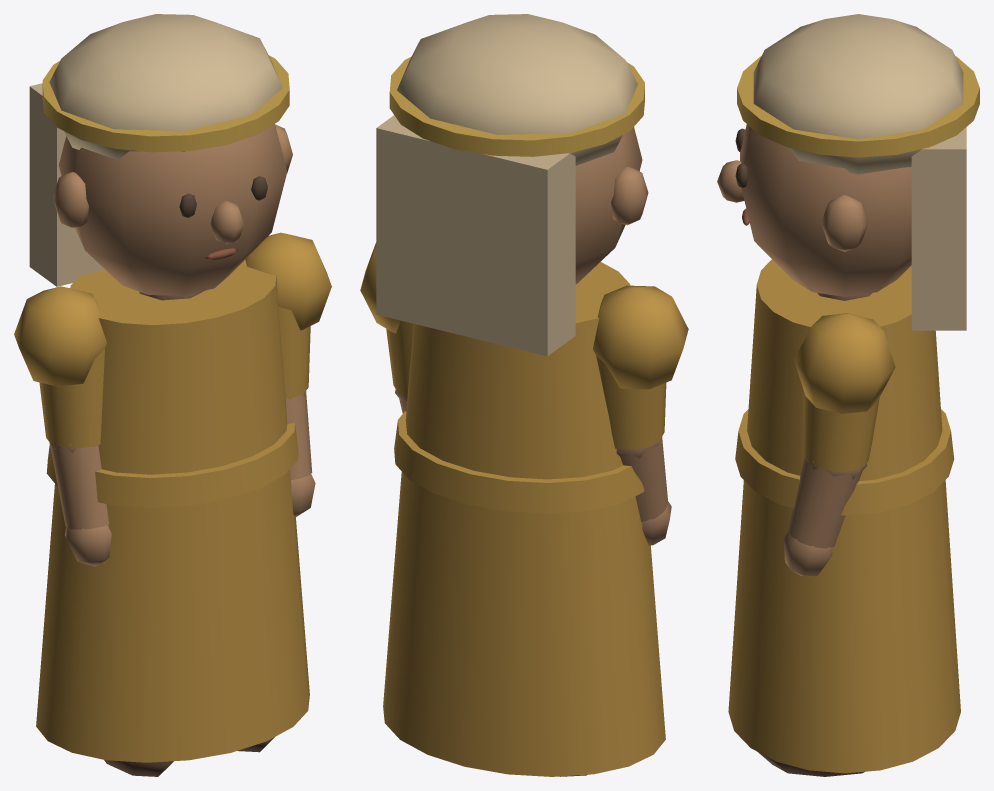
File: shepherd.glb
The picture shows the model from 3 angles, left to right: view 1: azimuth 30°, elevation 25°; view 2: azimuth 150°, elevation 25°; view 3: azimuth 270°, elevation 25°; orthographic projection. The views are drawn at different scales.
Visible parts, largest first — view 1: shepherd-torso-surface, shepherd-head-surface, shepherd-left-shoulder-surface, -surface (×2), shepherd-right-shoulder-surface, shepherd-surface; view 2: shepherd-torso-surface, shepherd-head-surface, shepherd-left-shoulder-surface, -surface, shepherd-right-shoulder-surface; view 3: shepherd-torso-surface, shepherd-head-surface, shepherd-right-shoulder-surface, -surface, shepherd-surface.
Boxes of the visible parts, x1,y1,x2,y2 form: shepherd-torso-surface: [36, 259, 309, 762]; shepherd-head-surface: [29, 14, 292, 295]; shepherd-left-shoulder-surface: [14, 286, 106, 448]; -surface (×2): [49, 386, 315, 566]; shepherd-right-shoulder-surface: [245, 232, 331, 398]; shepherd-surface: [104, 737, 274, 776]; shepherd-torso-surface: [383, 262, 665, 776]; shepherd-head-surface: [376, 14, 648, 356]; shepherd-left-shoulder-surface: [593, 285, 688, 449]; -surface: [616, 437, 671, 545]; shepherd-right-shoulder-surface: [360, 242, 413, 397]; shepherd-torso-surface: [728, 259, 960, 773]; shepherd-head-surface: [717, 14, 979, 330]; shepherd-right-shoulder-surface: [794, 313, 895, 471]; -surface: [783, 458, 867, 576]; shepherd-surface: [758, 752, 864, 776].
Size of the model in its own units: 0.91 by 2.01 by 0.6691.
